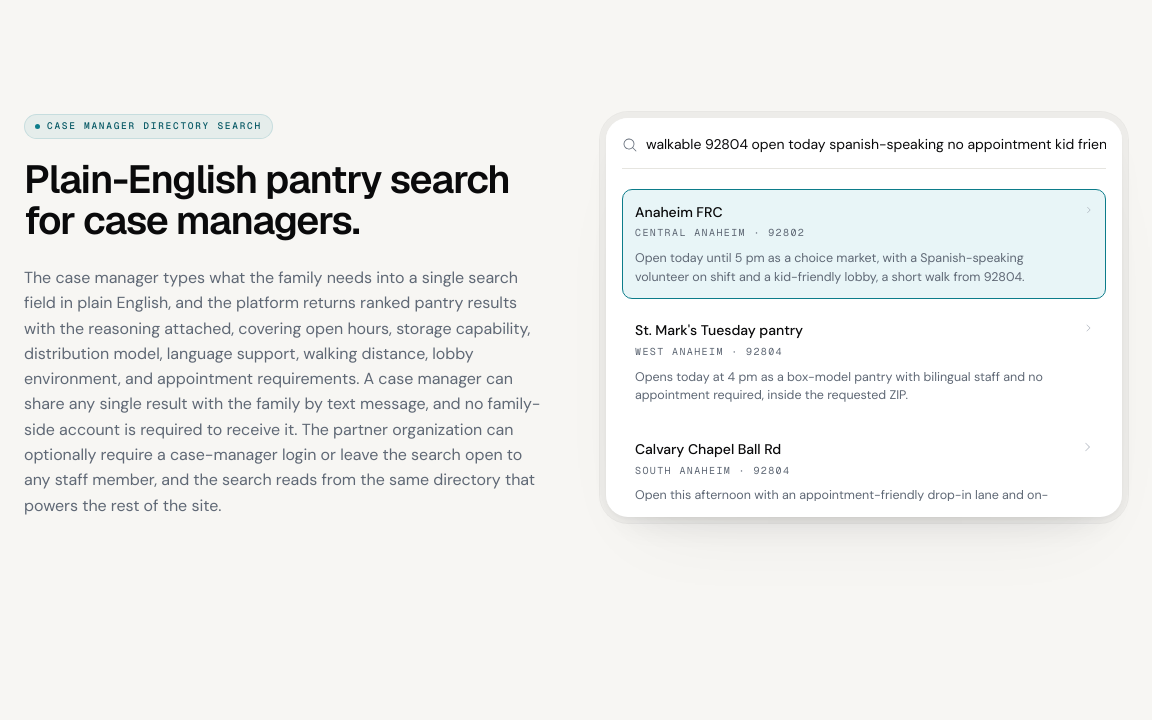
Test case: CaseManager section › selecting a result opens the inline detail panel and moves focus to its heading
The image size is (1152, 720).
Click the option with test id "result-0": (679, 212) x1=622 y1=189 x2=1106 y2=299
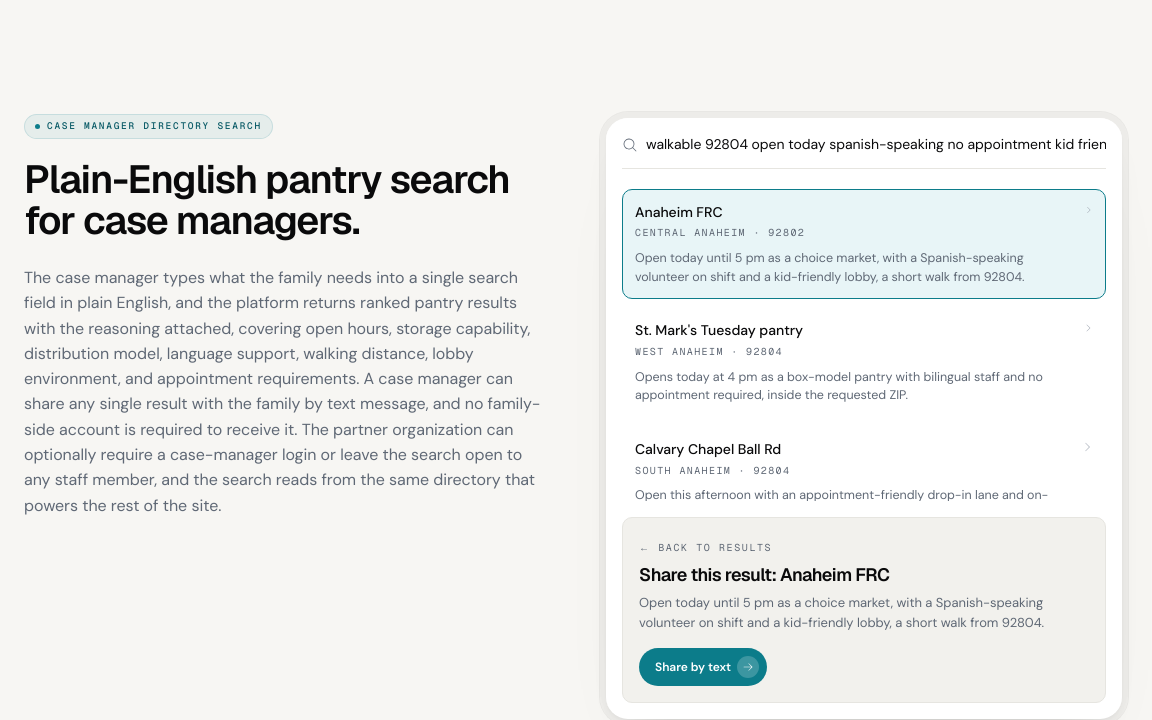
Check: the element named "result detail" is shown, box x1=622 y1=517 x2=1106 y2=703
Check: the heading "Share this result: Anaheim FRC" is shown, box x1=639 y1=564 x2=889 y2=586
